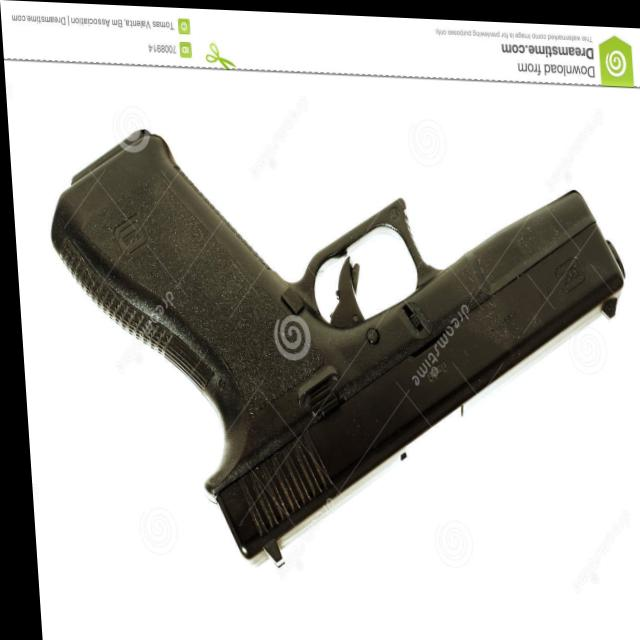handgun: (42, 100, 639, 578)
